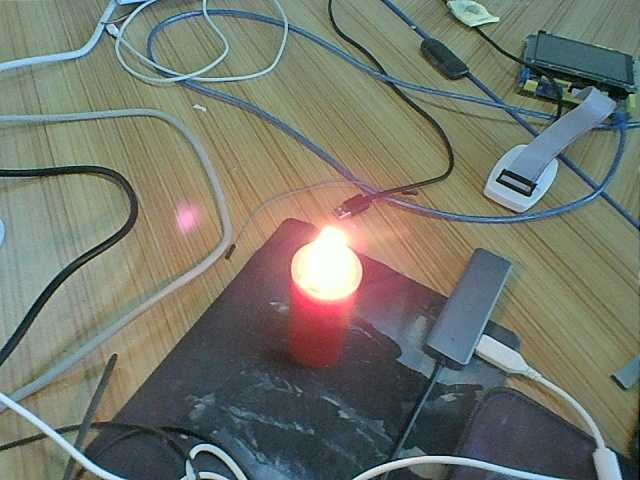candle: (286, 287, 355, 372)
fire: (308, 222, 358, 294)
